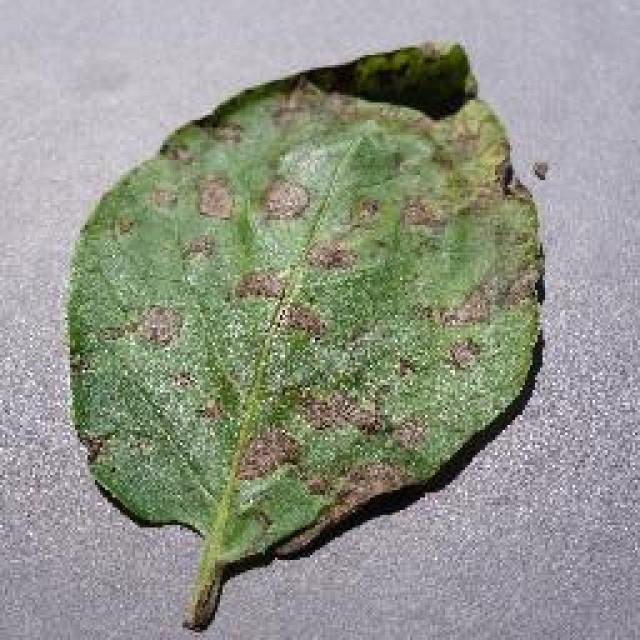early_blight: (60, 35, 550, 633)
